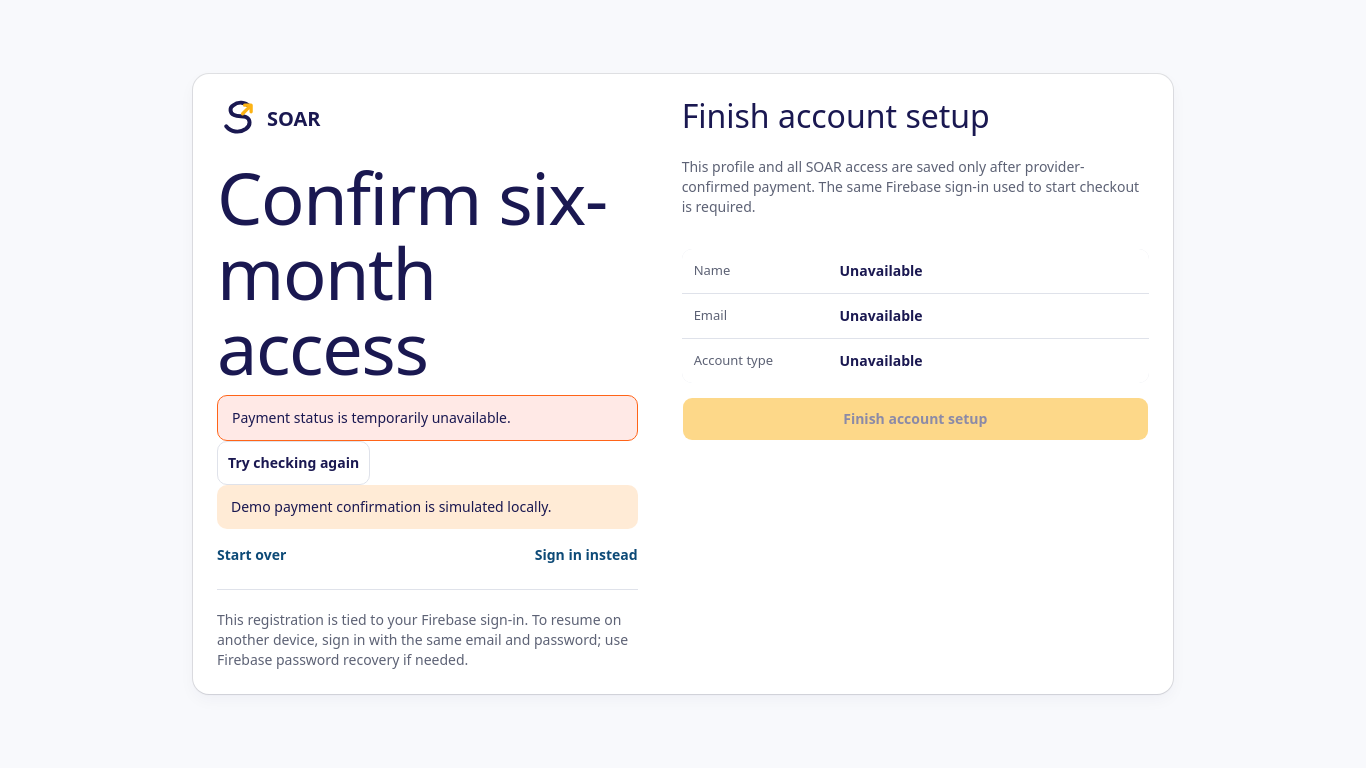
Scenario: CheckoutStatusPage › can retry a temporary status read failure without replacing the preserved registration details
expect the message shows "temporarily unavailable": met, box [232, 408, 511, 427]
Click the button "Try checking again": (294,463) [217, 441, 370, 485]
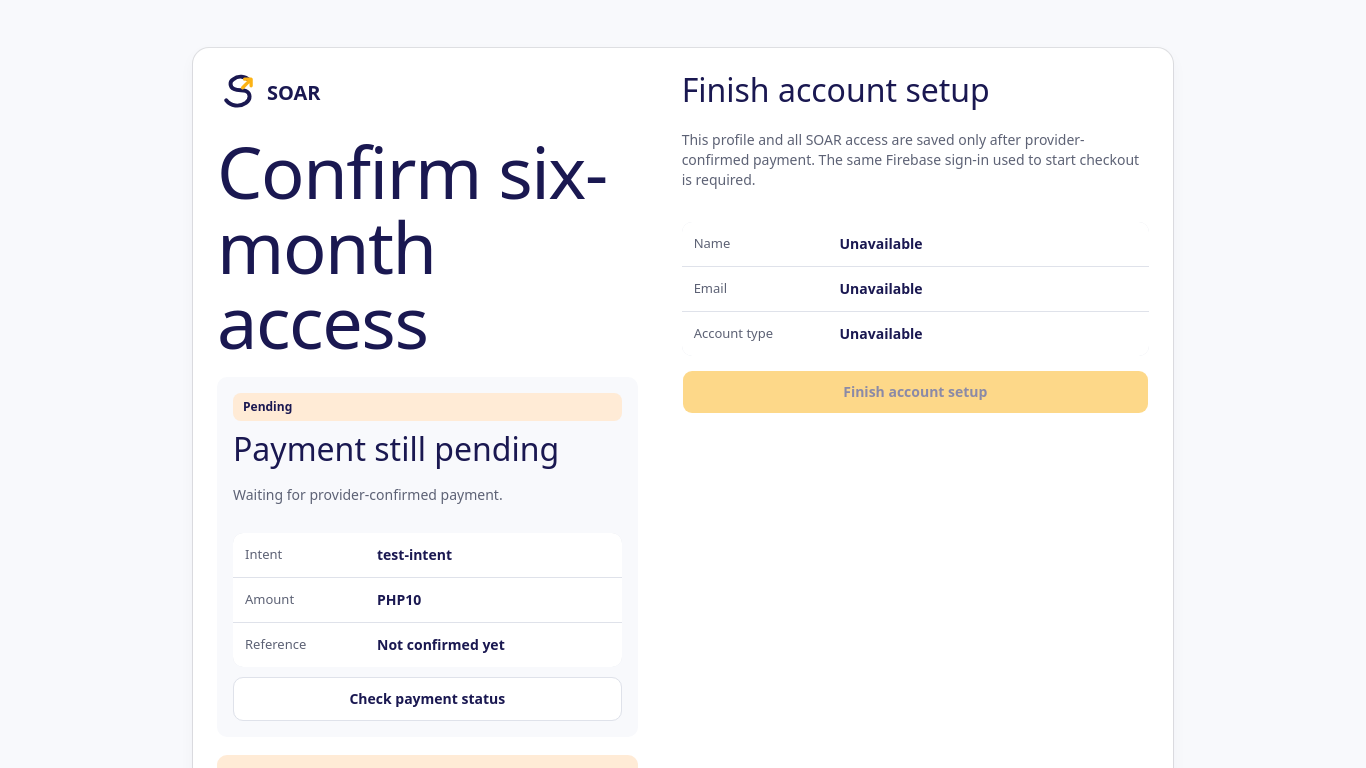
expect the heading "Payment still pending" is shown: met, box [233, 427, 559, 470]
